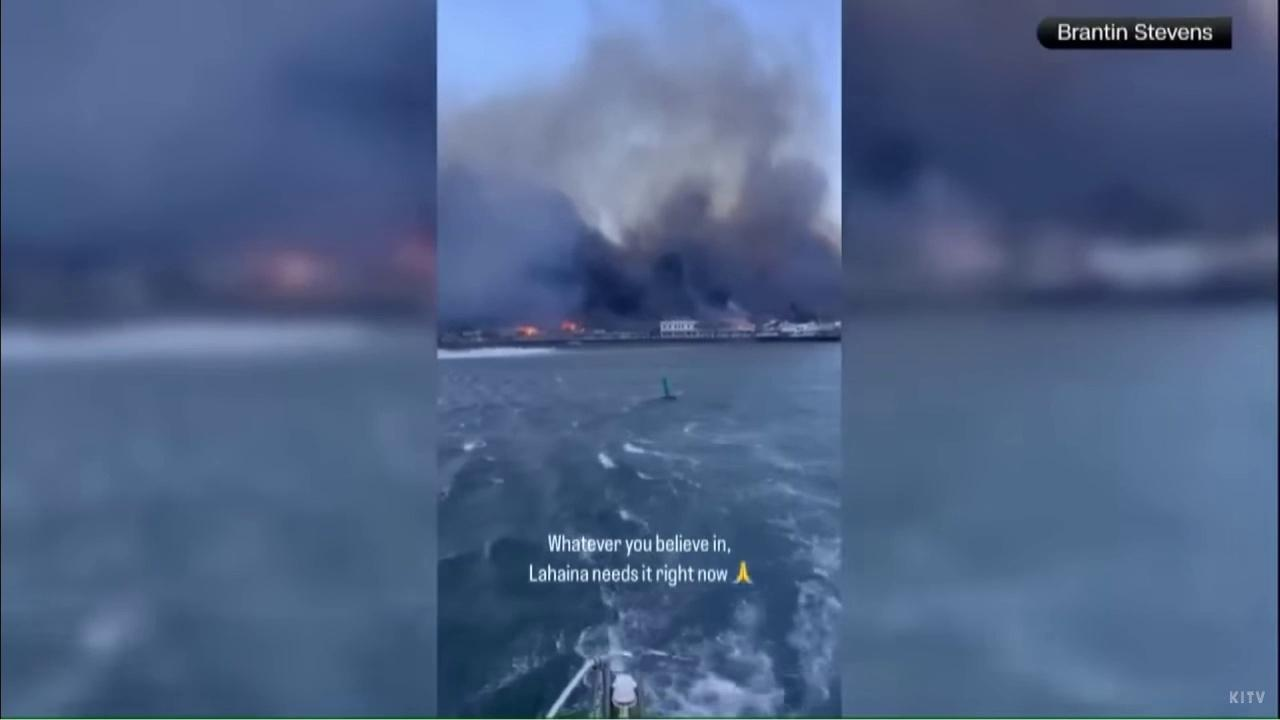fire: (514, 324, 540, 336), (558, 319, 577, 333)
smoke: (436, 0, 842, 333)
